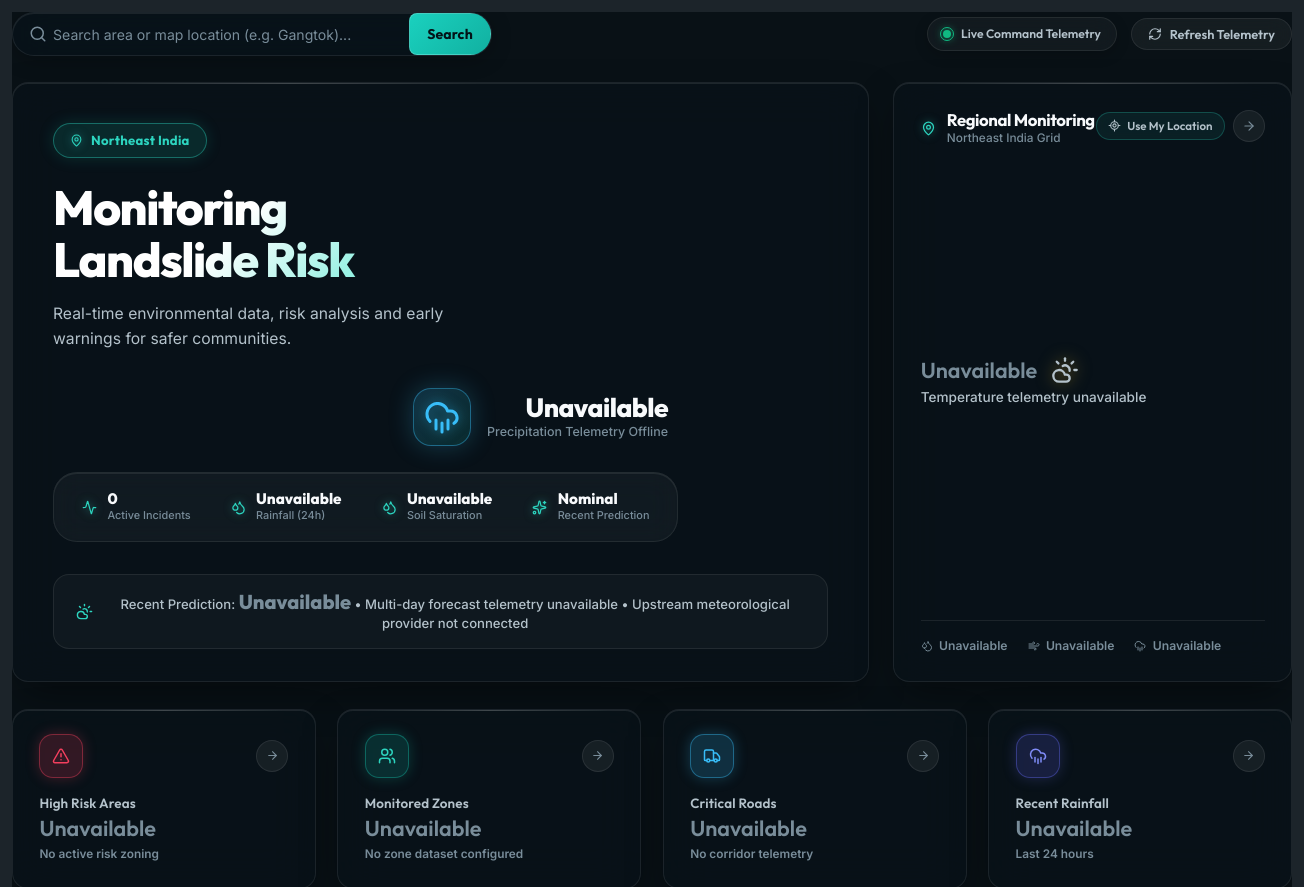
Test: Dashboard Core Data Correctness › Use My Location in Regional Monitoring › handles geolocation permission denied gracefully with user-facing message
What coordinates should you click on to do the following:
click the button "Use My Location"
I would click on:
 (1160, 126)
Its box is [1096,112,1225,140].
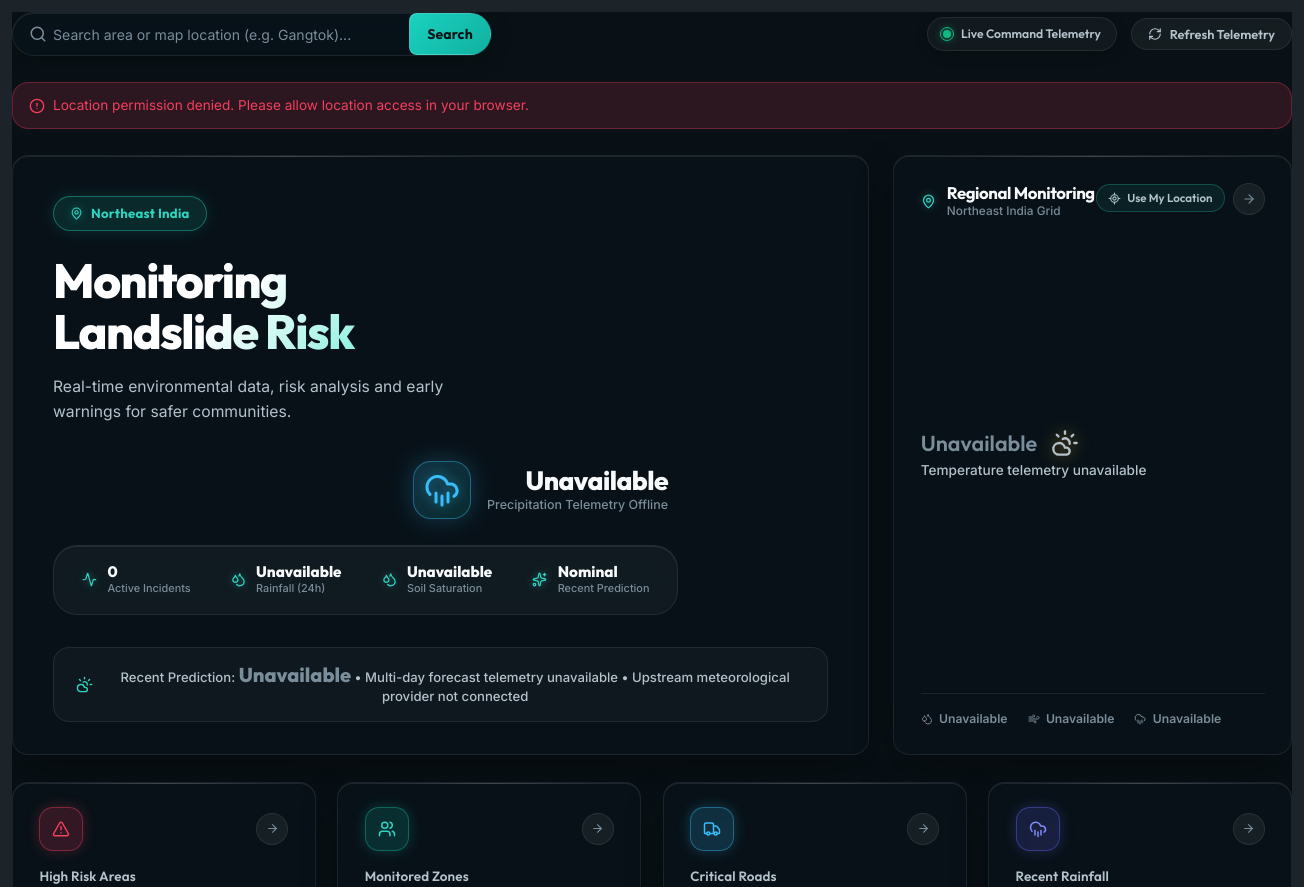
Expected: the text "Location permission denied" is shown, [53,97,529,113]
